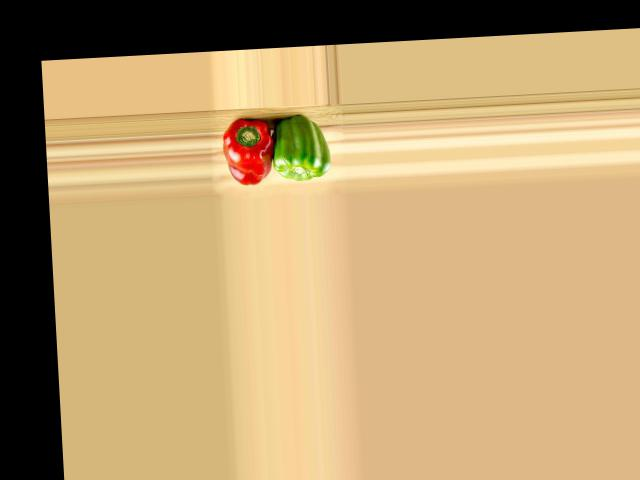bell_pepper: (220, 117, 278, 186)
